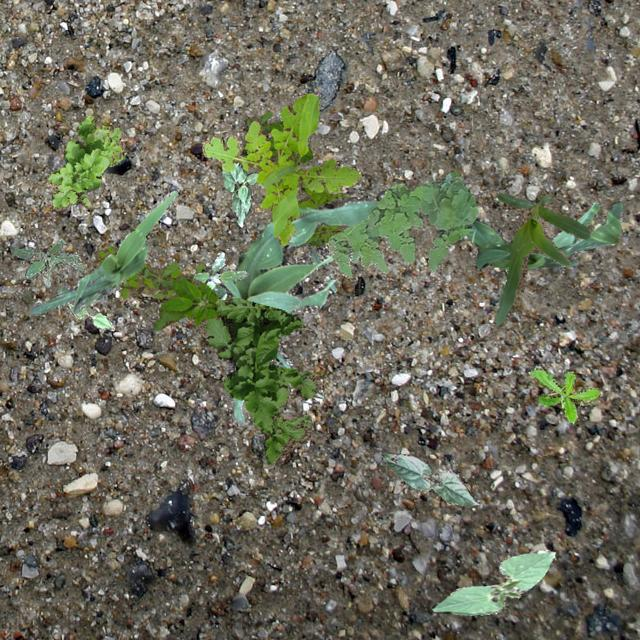crop: (205, 195, 377, 422), (28, 190, 176, 314), (492, 188, 590, 328), (466, 198, 622, 270), (431, 548, 554, 614), (379, 452, 478, 504), (220, 160, 258, 226), (68, 302, 114, 330)
weed: (202, 93, 360, 245), (196, 296, 318, 464), (326, 170, 476, 276), (46, 114, 124, 210), (91, 245, 206, 298), (140, 262, 218, 330), (530, 368, 600, 422), (9, 238, 83, 286), (244, 110, 312, 162), (296, 184, 346, 246), (192, 250, 245, 300)
